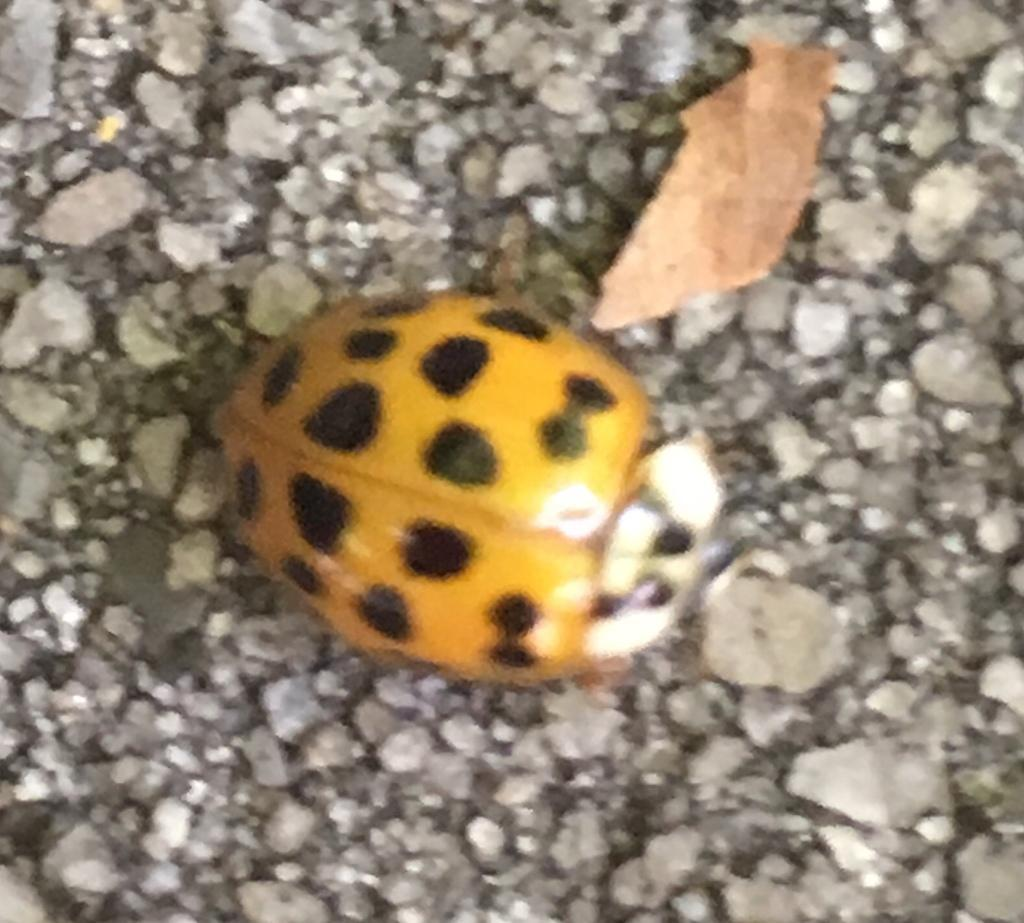ladybug: (211, 286, 736, 686)
